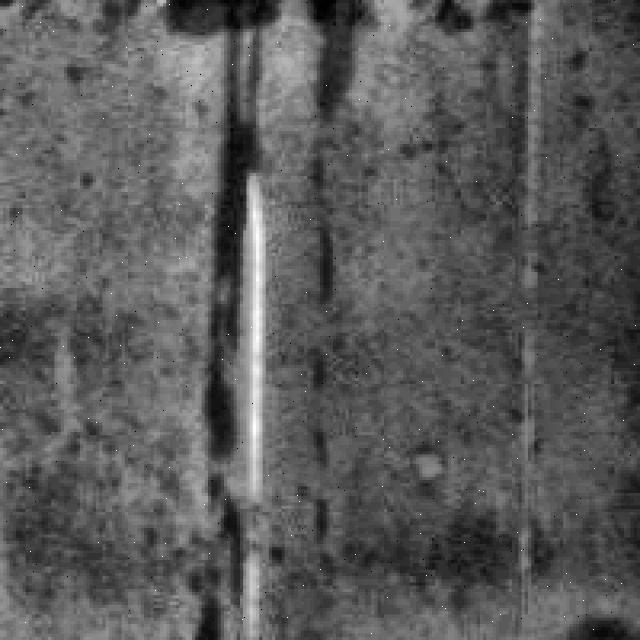Inclusion: (224, 173, 275, 637)
Patches: (300, 0, 362, 128)
